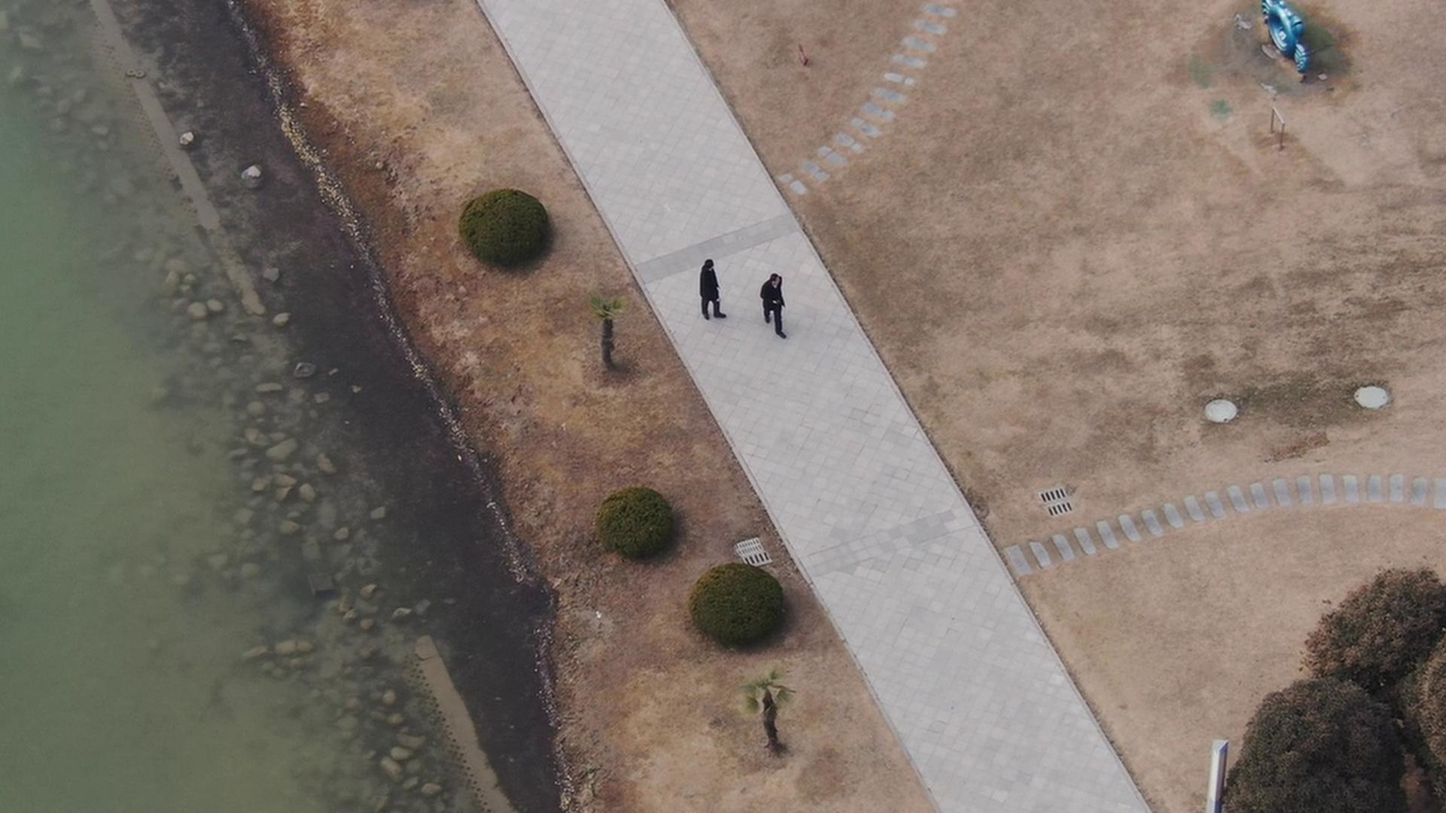human: (747, 257, 792, 343), (685, 245, 726, 327)
